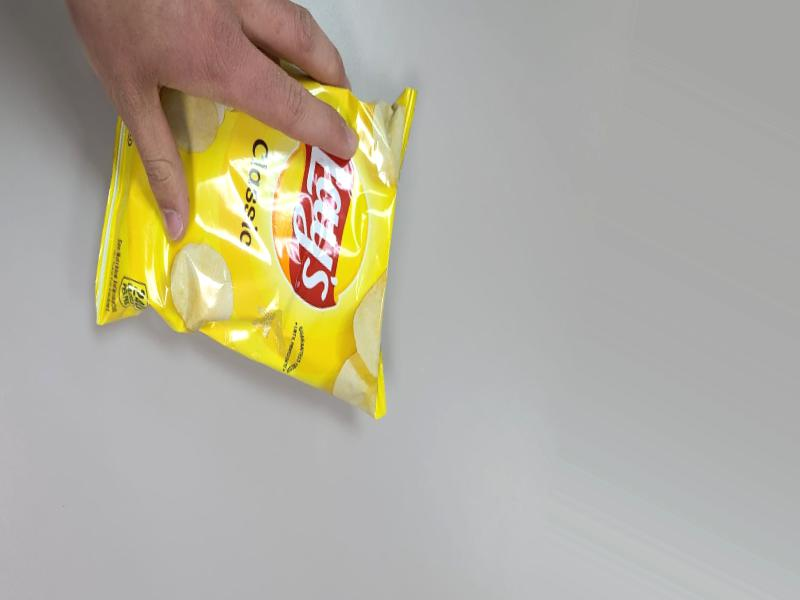lays: (116, 75, 407, 411)
